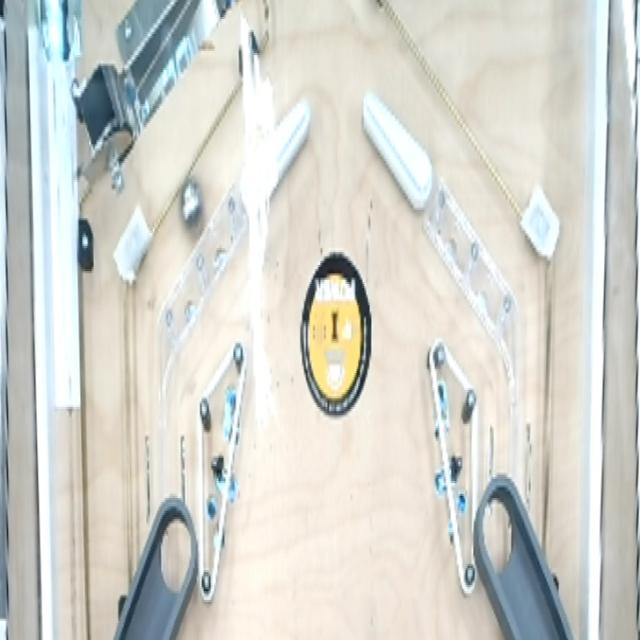ball: (178, 180, 206, 237)
flipper-left: (356, 86, 438, 226)
flipper-right: (239, 92, 312, 228)
